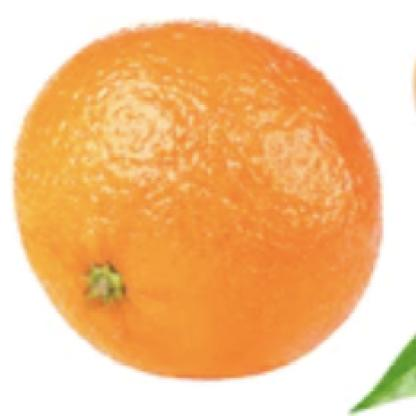fresh: (13, 21, 384, 379)
